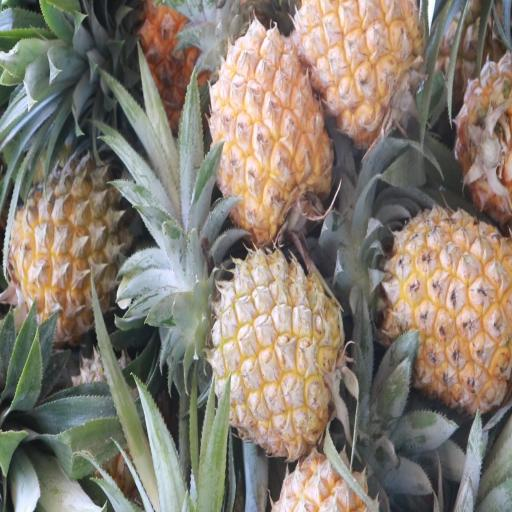------------------------------: (5, 159, 130, 338)
Pineapple - v8 v1: (213, 241, 344, 455), (382, 200, 511, 415), (205, 24, 332, 234), (298, 2, 428, 130)
